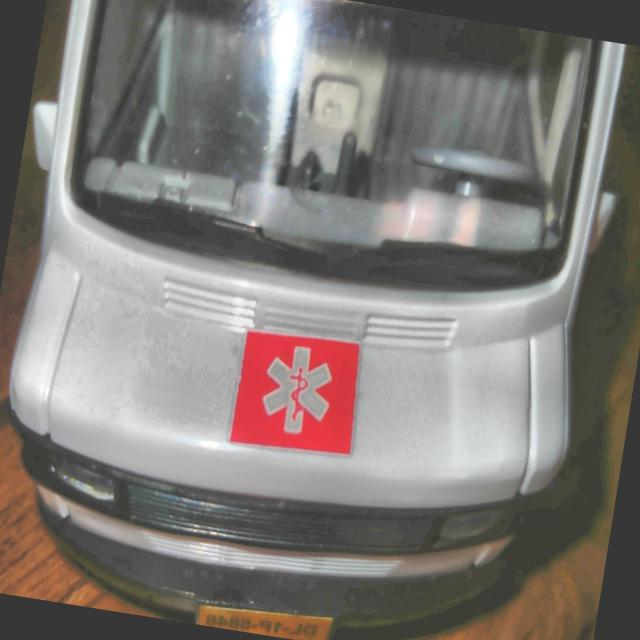Ambulance: (0, 0, 630, 640), (230, 326, 368, 462)
